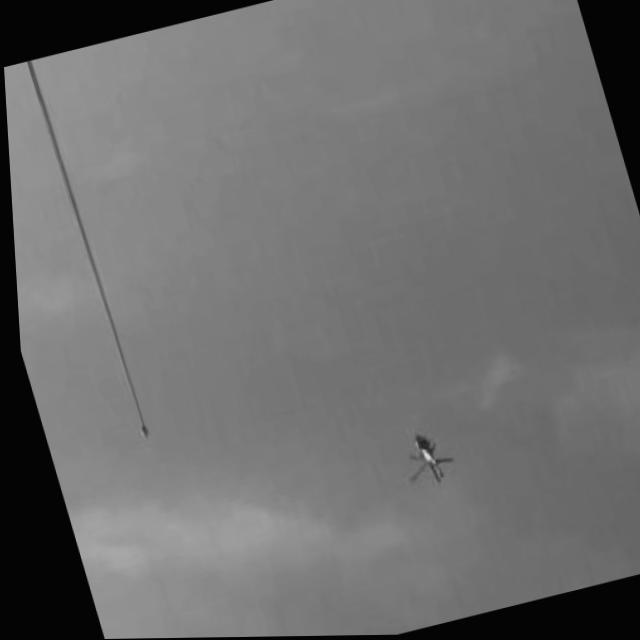helikopter: (383, 415, 461, 499)
